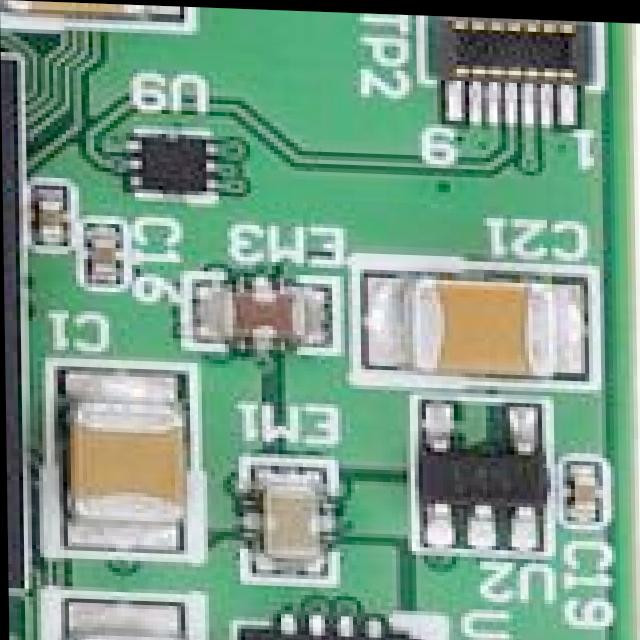IC: (418, 398, 554, 552), (428, 12, 597, 129), (1, 56, 27, 597), (125, 126, 222, 210), (215, 610, 447, 640)
capacitor: (359, 262, 600, 385), (48, 361, 198, 554), (63, 594, 199, 640), (0, 0, 188, 29), (83, 218, 127, 292), (565, 458, 614, 522), (36, 181, 71, 254)
inductor: (191, 271, 340, 358), (247, 461, 339, 582)
